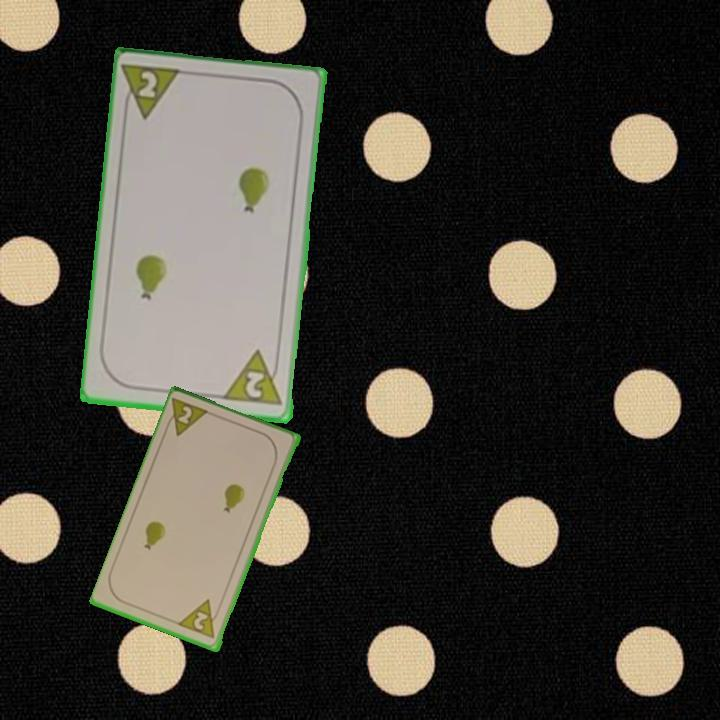2p: (121, 61, 187, 124), (221, 347, 286, 410), (161, 395, 214, 440), (176, 596, 223, 642)
